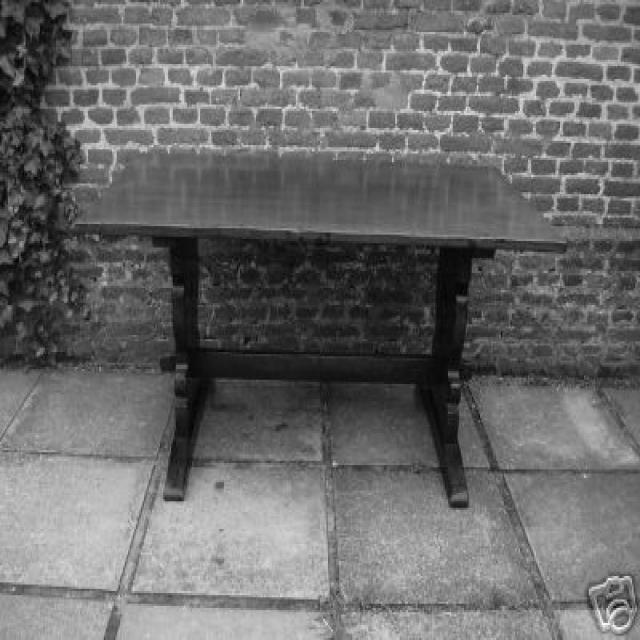table: (82, 158, 570, 516)
